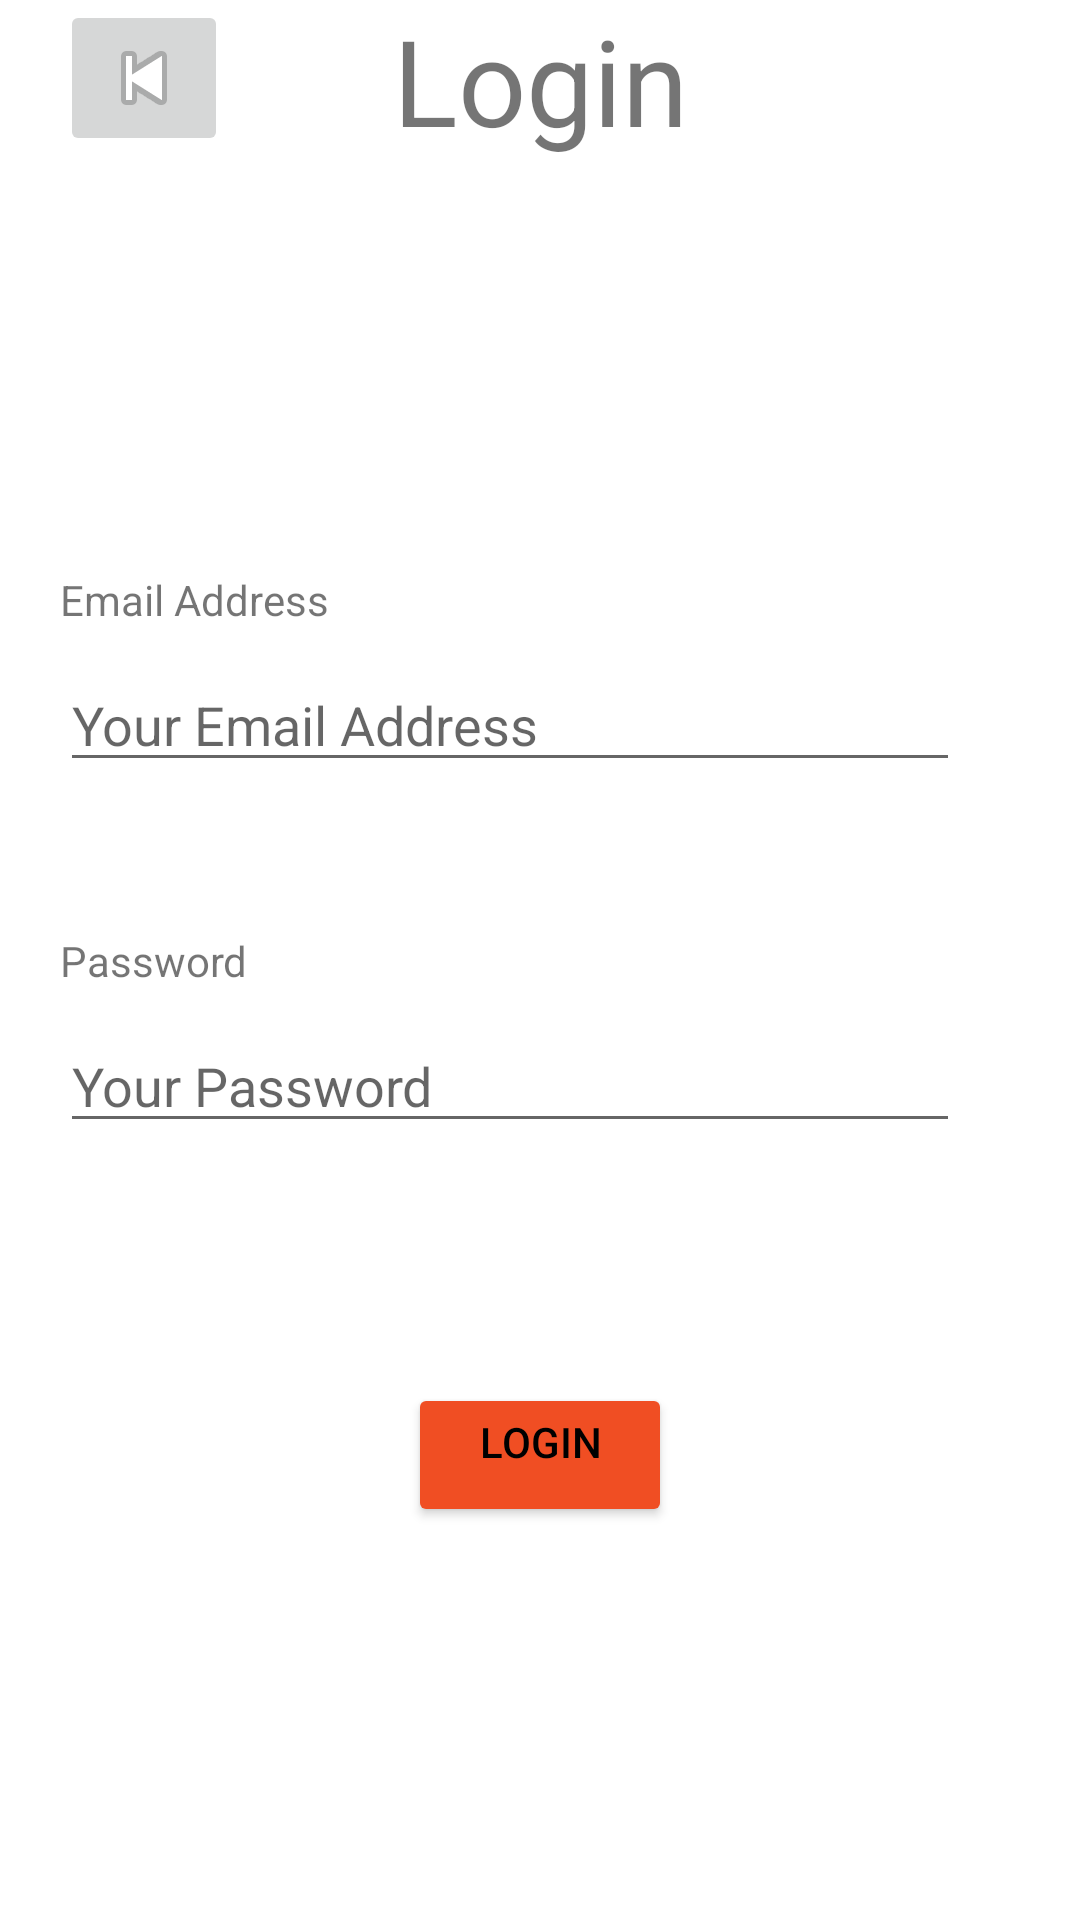

Icon click points for this 1080×1920 phone screenshot, format [x,y]:
previous: [144,78]
